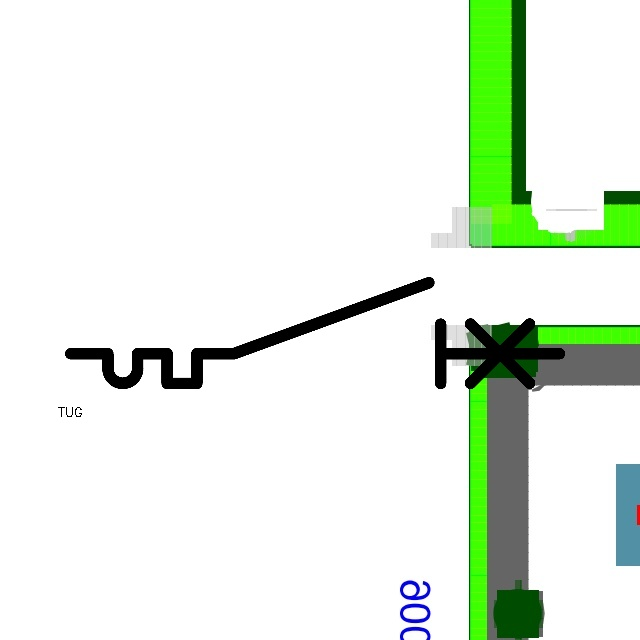interruptor_termomagnetico: (58, 270, 572, 396)
